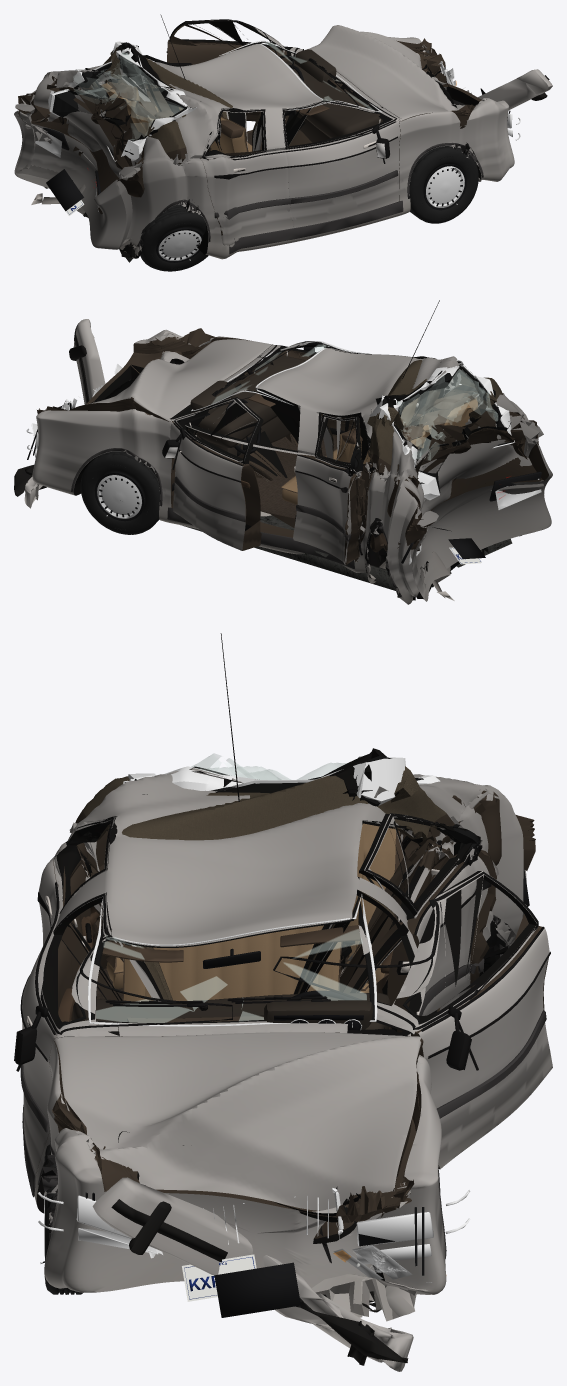
The model's file is sedan87_rear_d3_lod1.glb.
3 renders of one model, top to bottom at view 1: azimuth 30°, elevation 25°; view 2: azimuth 150°, elevation 25°; view 3: azimuth 270°, elevation 25°, orthographic. The views are drawn at different scales.
Parts seen in each view (by area): view 1: Body, Door_FR, Hood, Glass, Door_RR, Interior, Wheel_FR_mesh, Wheel_RR_mesh, Trunk, Trim, Door_FL, Trim_FR (+3 smaller); view 2: Body, Door_FL, Interior, Glass, Hood, Door_RL, Wheel_FL_mesh, Trunk, Bumper_F, Ends, Trim, Underbody (+5 smaller); view 3: Body, Hood, Door_FL, Interior, Bumper_F, Glass, Ends, Door_RL, Door_FR, Trim_FL, Trim_FR, Door_RR (+4 smaller).
Part boxes in pixels (x1,y1,x2,y2): Body: (14,37,514,259); Door_FR: (282,101,400,228); Hood: (308,25,464,121); Glass: (48,40,381,161); Door_RR: (200,108,293,245); Interior: (101,49,382,153); Wheel_FR_mesh: (409,146,478,223); Wheel_RR_mesh: (140,204,208,271); Trunk: (25,74,136,214); Trim: (137,14,483,254); Door_FL: (167,20,303,121); Trim_FR: (283,81,398,203); Body: (32,328,552,604); Door_FL: (170,398,263,550); Interior: (190,354,477,545); Glass: (191,341,514,500); Hood: (69,339,274,421); Door_RL: (293,414,365,565); Wheel_FL_mesh: (80,451,159,534); Trunk: (387,425,543,549); Bumper_F: (14,319,105,508); Ends: (26,364,541,564); Trim: (71,300,439,597); Underbody: (120,500,512,600); Body: (34,748,535,1321); Hood: (54,1032,423,1243); Door_FL: (374,871,552,1169); Interior: (73,823,403,1030); Bumper_F: (92,1177,413,1371); Glass: (88,753,440,1026); Ends: (38,869,529,1317); Door_RL: (359,814,498,1029); Door_FR: (22,893,119,1174); Trim_FL: (273,871,550,1118); Trim_FR: (14,893,232,1132); Door_RR: (38,817,115,1020).
Size of the model in its own units: 3.99 by 2.01 by 2.23.
Materials: 33 (5 with a texture image).
